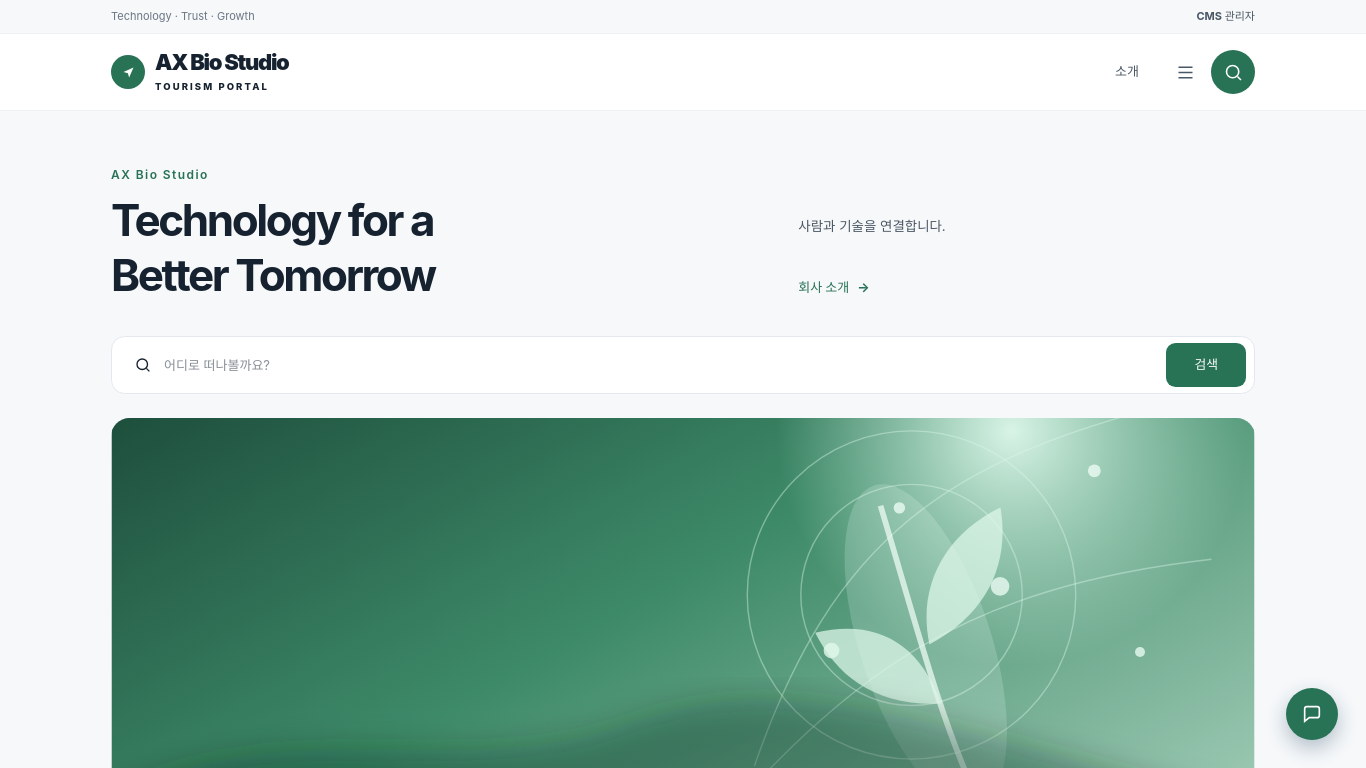
Test: the tour helper answers a question with its citations
The image size is (1366, 768).
Click the button named "관광 도우미 열기" at (1312, 714), box [1286,688,1338,740]
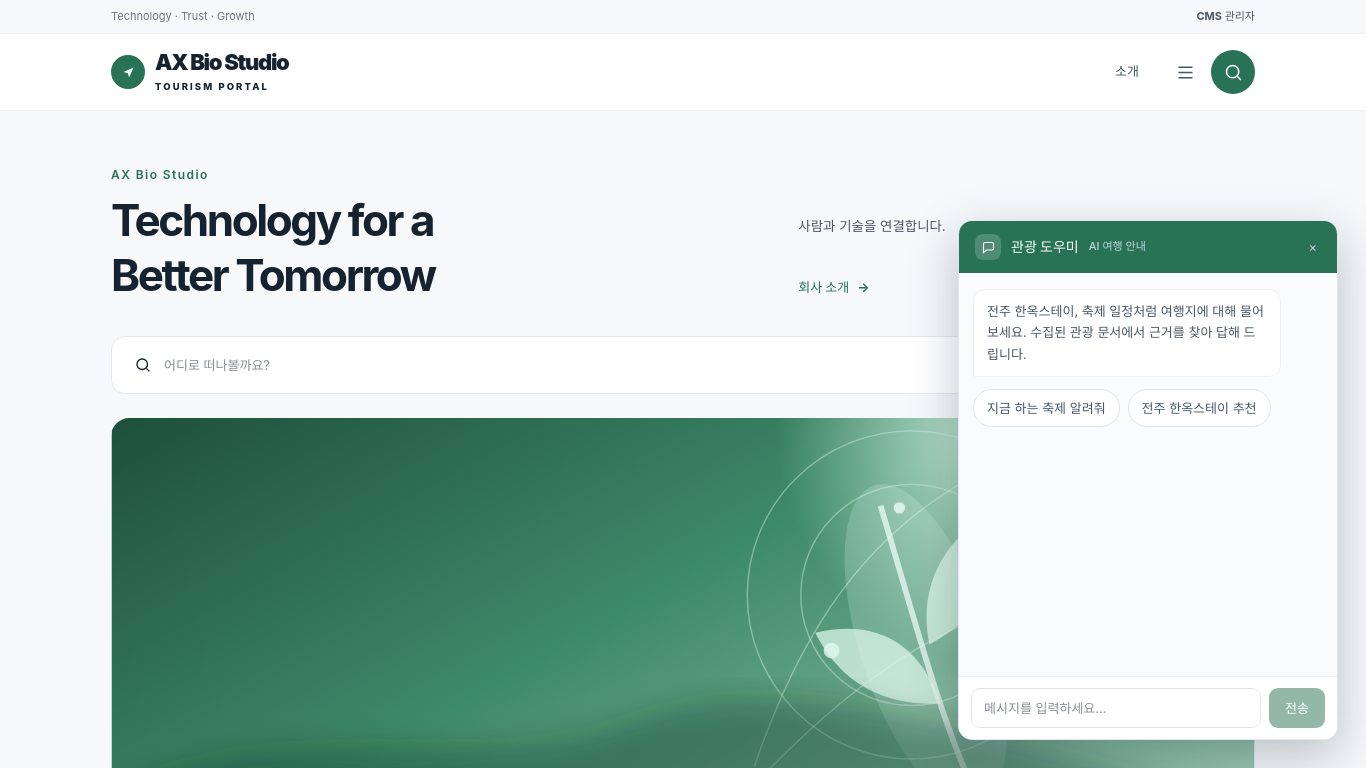
Type "전주 한옥스테이 추천해줘" into the field named "관광 도우미 메시지" at (1116, 708), box [971,688,1261,728]
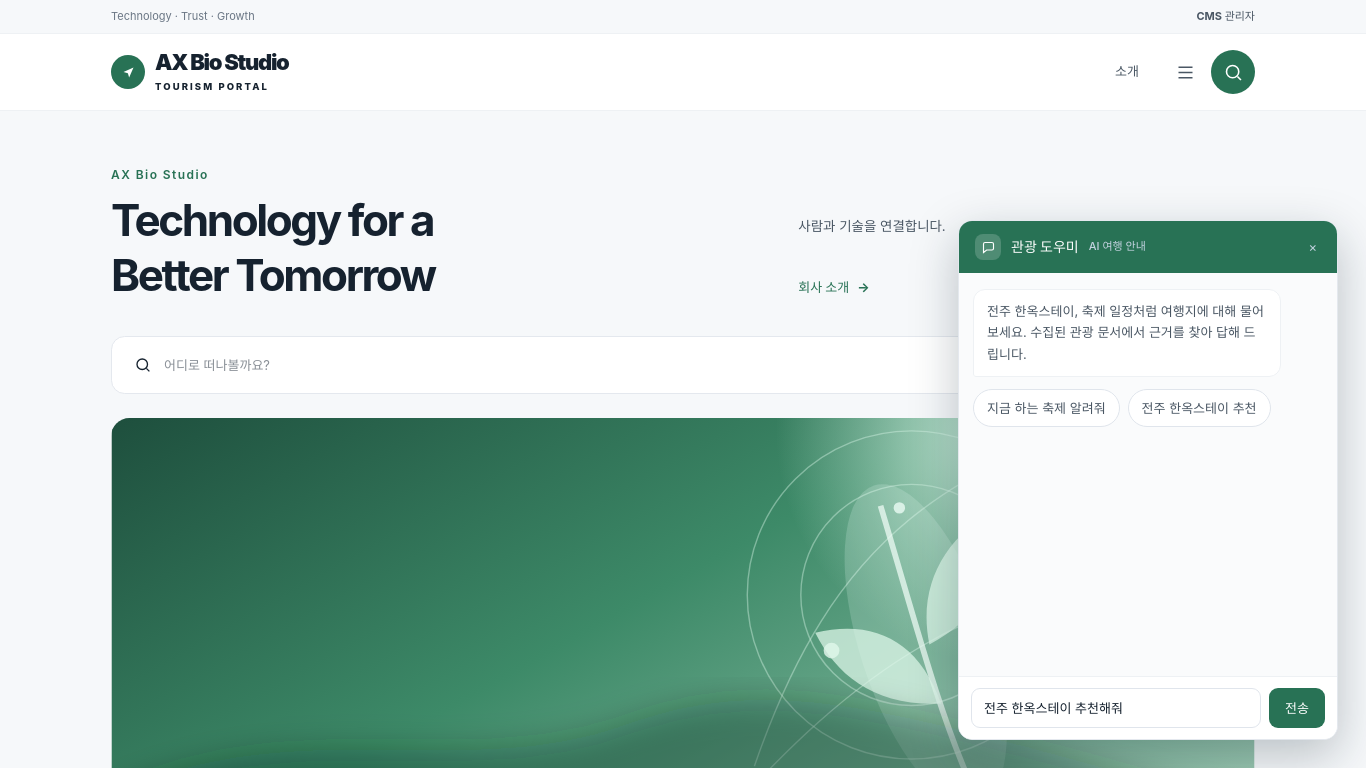
Click the button "전송" at (1297, 708), box [1269,688,1325,728]
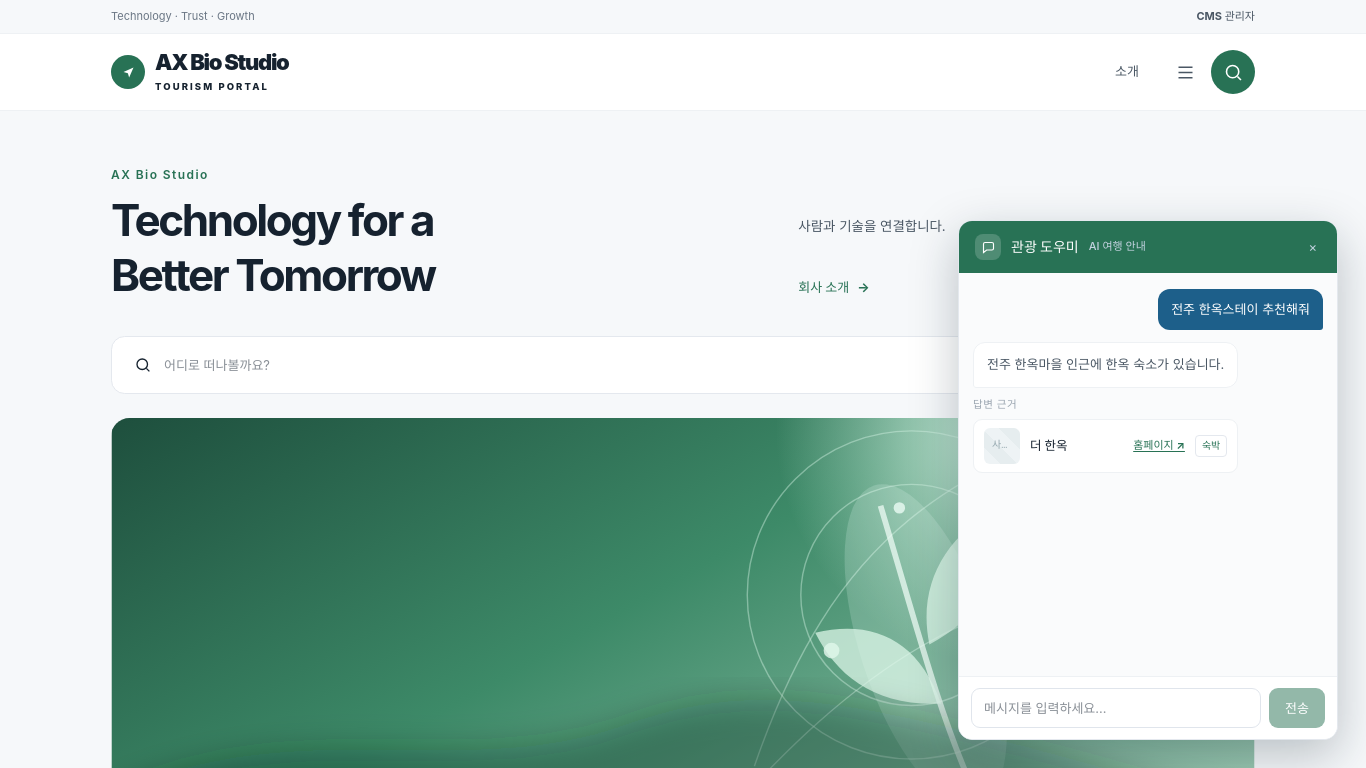
expect the text "전주 한옥스테이 추천해줘" is shown: met, box [1158,289,1323,330]
expect the text "전주 한옥마을 인근에 한옥 숙소가 있습니다." is shown: met, box [973,342,1238,388]
expect the text "답변 근거" is shown: met, box [973,398,1017,411]
